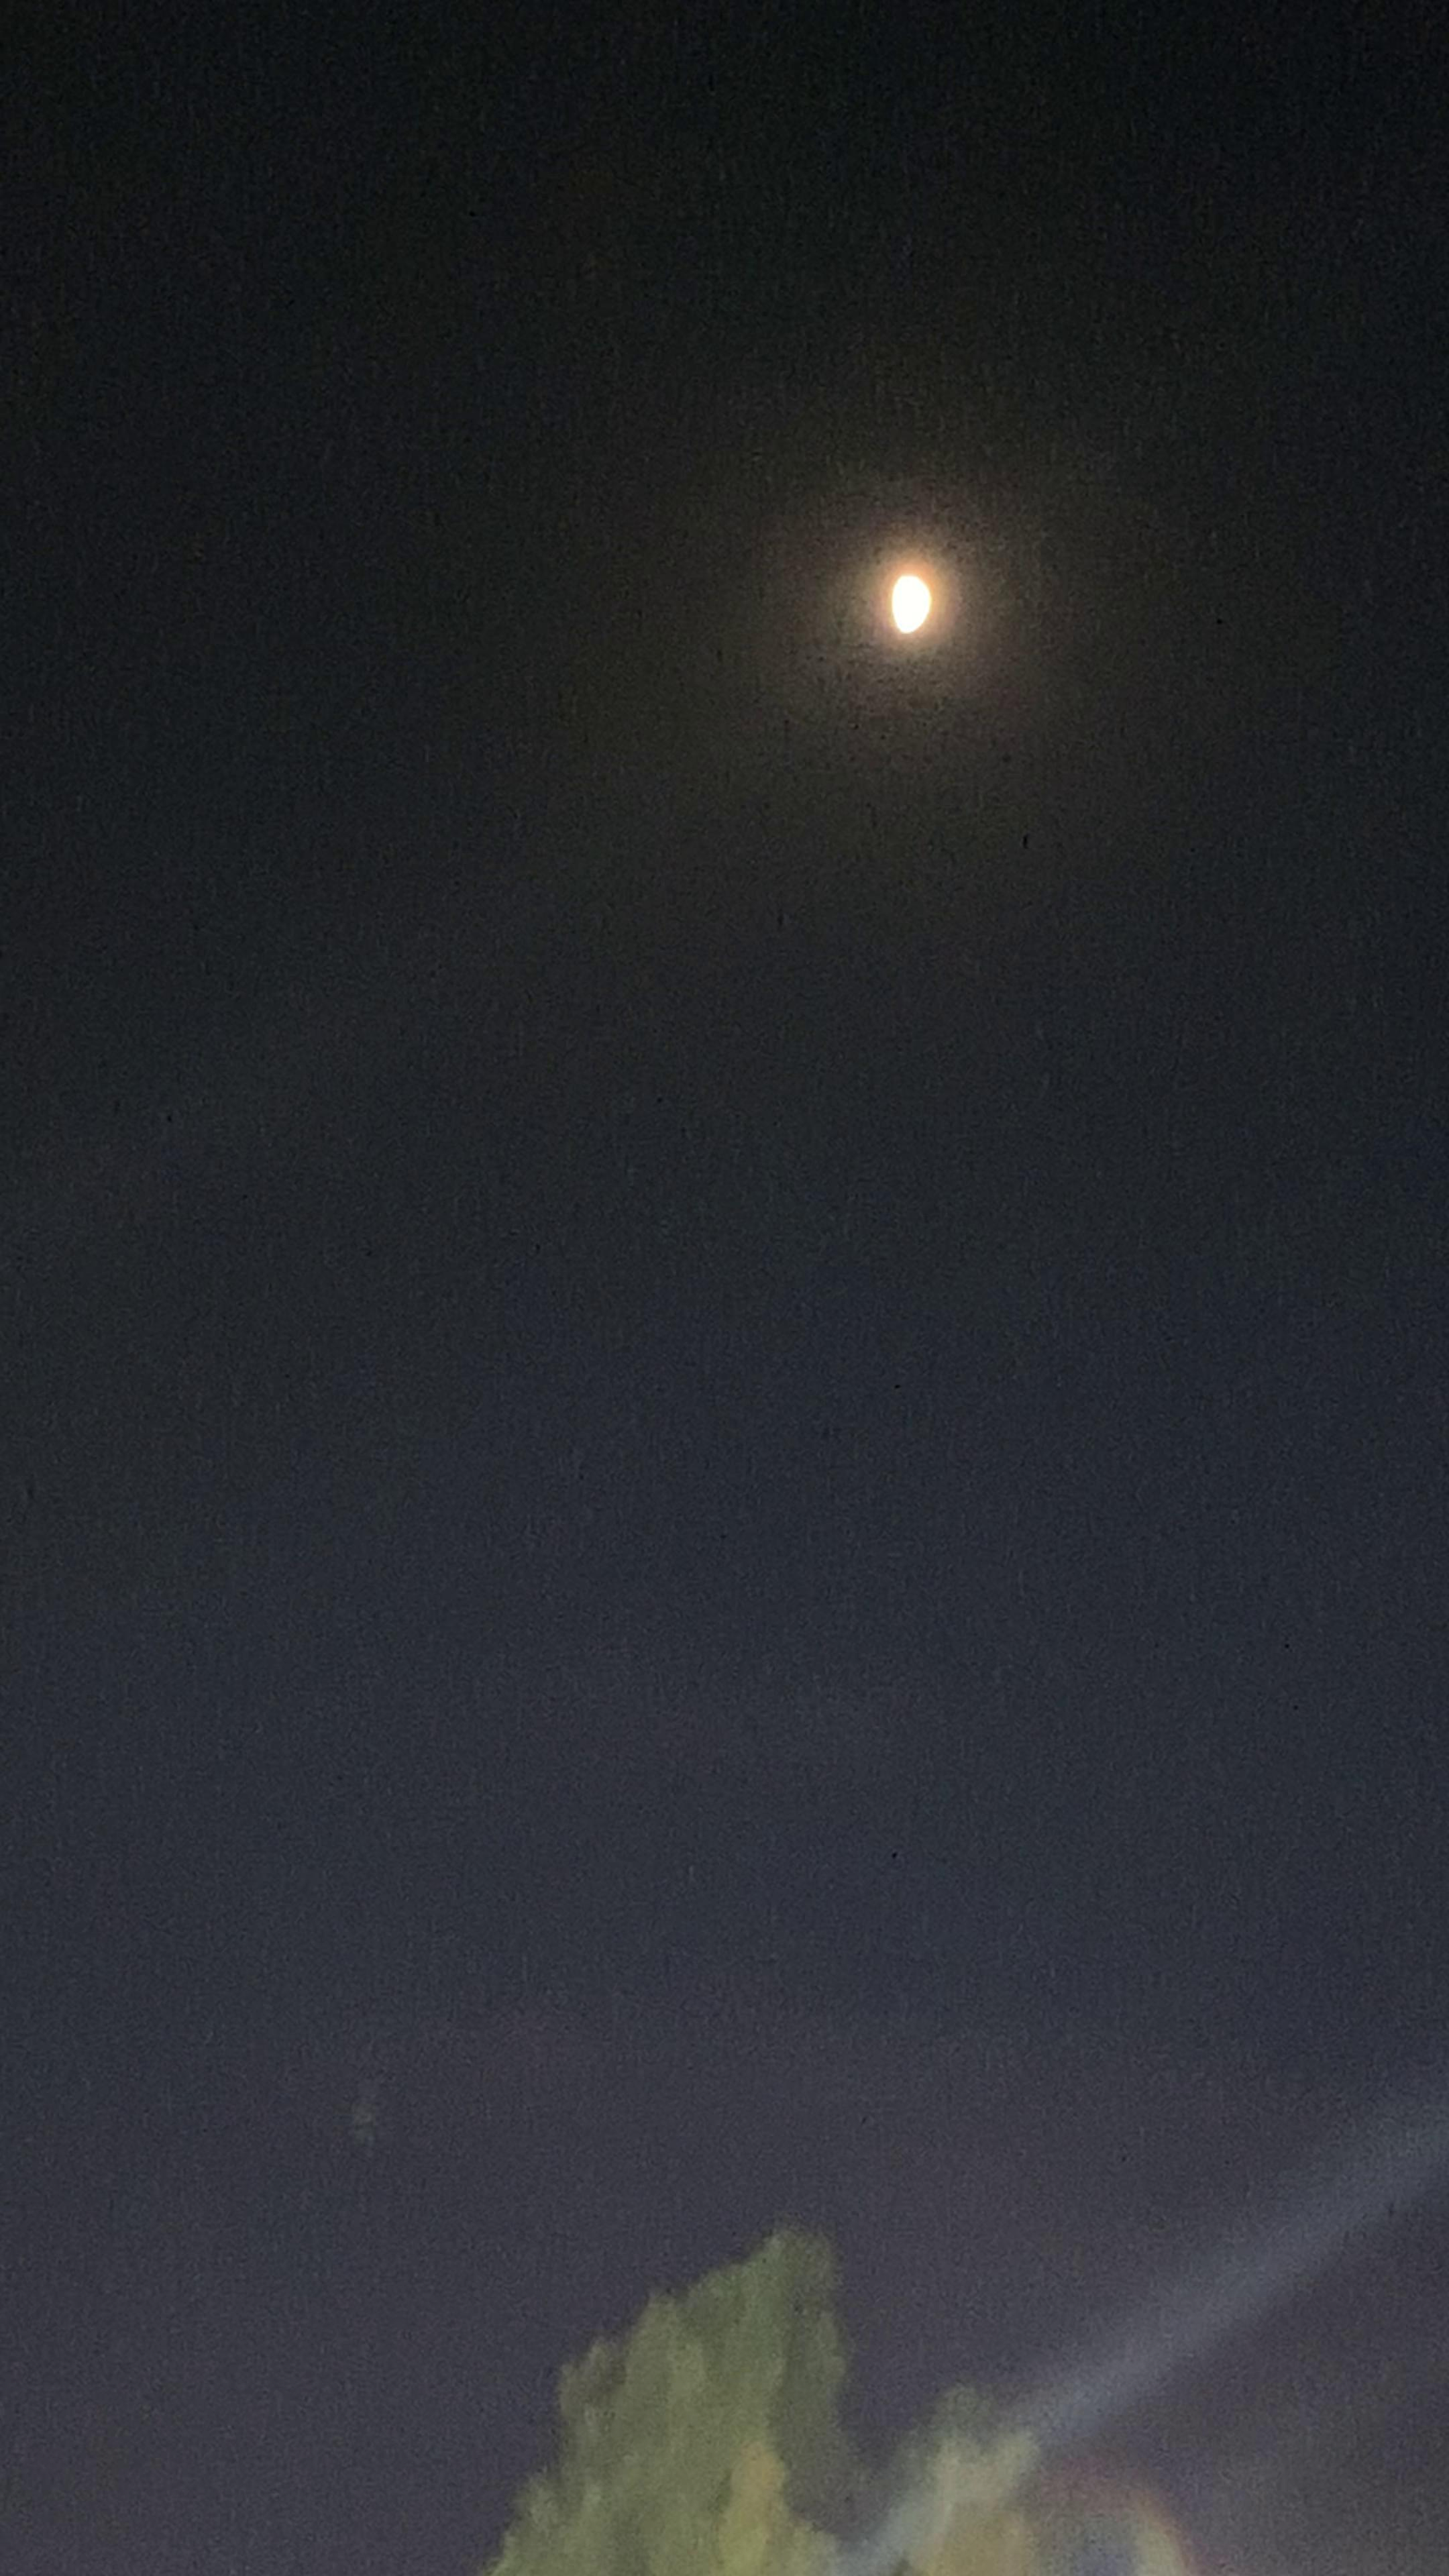moon: (858, 541, 975, 669)
